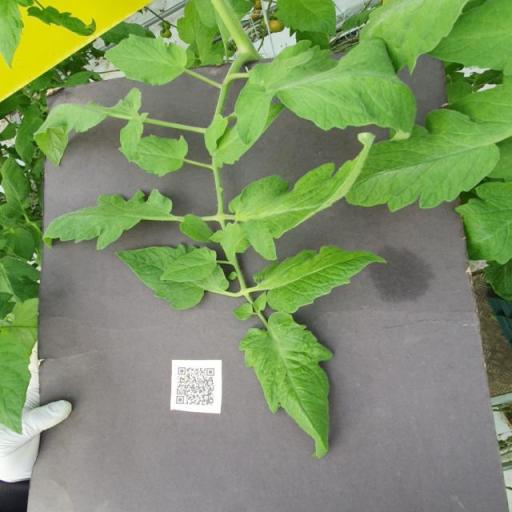Healthy: (347, 72, 512, 214), (220, 132, 376, 261), (235, 39, 419, 145), (236, 311, 338, 458), (252, 244, 390, 314), (31, 88, 153, 164), (38, 186, 174, 252), (102, 33, 188, 88), (120, 134, 190, 176), (158, 246, 218, 286), (179, 214, 215, 246)
